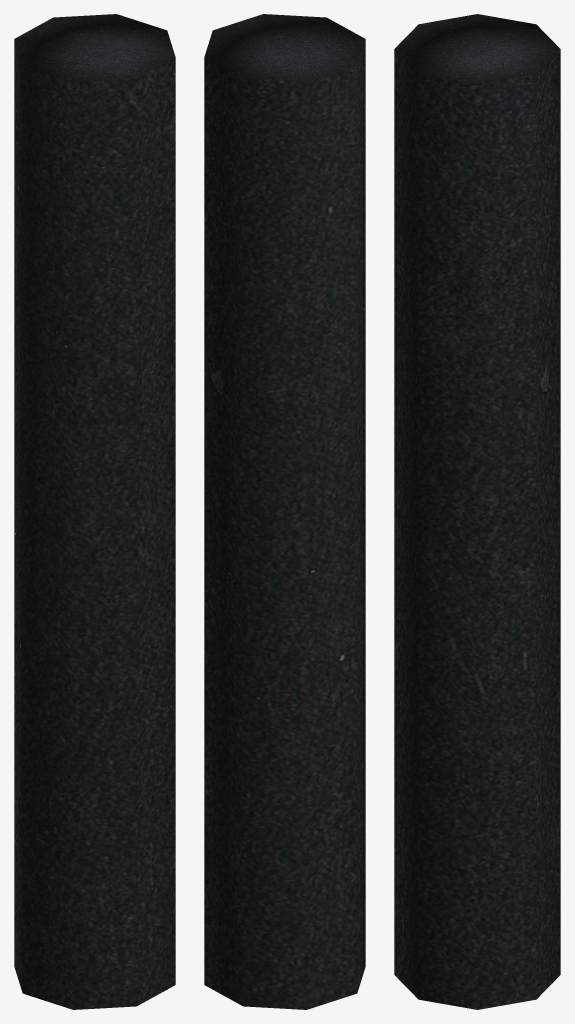
Rendered from Charcoal_Stick.1.fbx.
3 renders of one model, left to right at view 1: azimuth 30°, elevation 25°; view 2: azimuth 150°, elevation 25°; view 3: azimuth 270°, elevation 25°, orthographic.
Parts seen in each view (by area): view 1: pCylinder1; view 2: pCylinder1; view 3: pCylinder1.
Boxes of the visible parts, bbox=[...] form: pCylinder1: bbox=[14, 14, 175, 1009]; pCylinder1: bbox=[204, 14, 365, 1009]; pCylinder1: bbox=[394, 14, 560, 1009].
Size of the model in its own units: 0.4 by 2.45 by 0.4.
